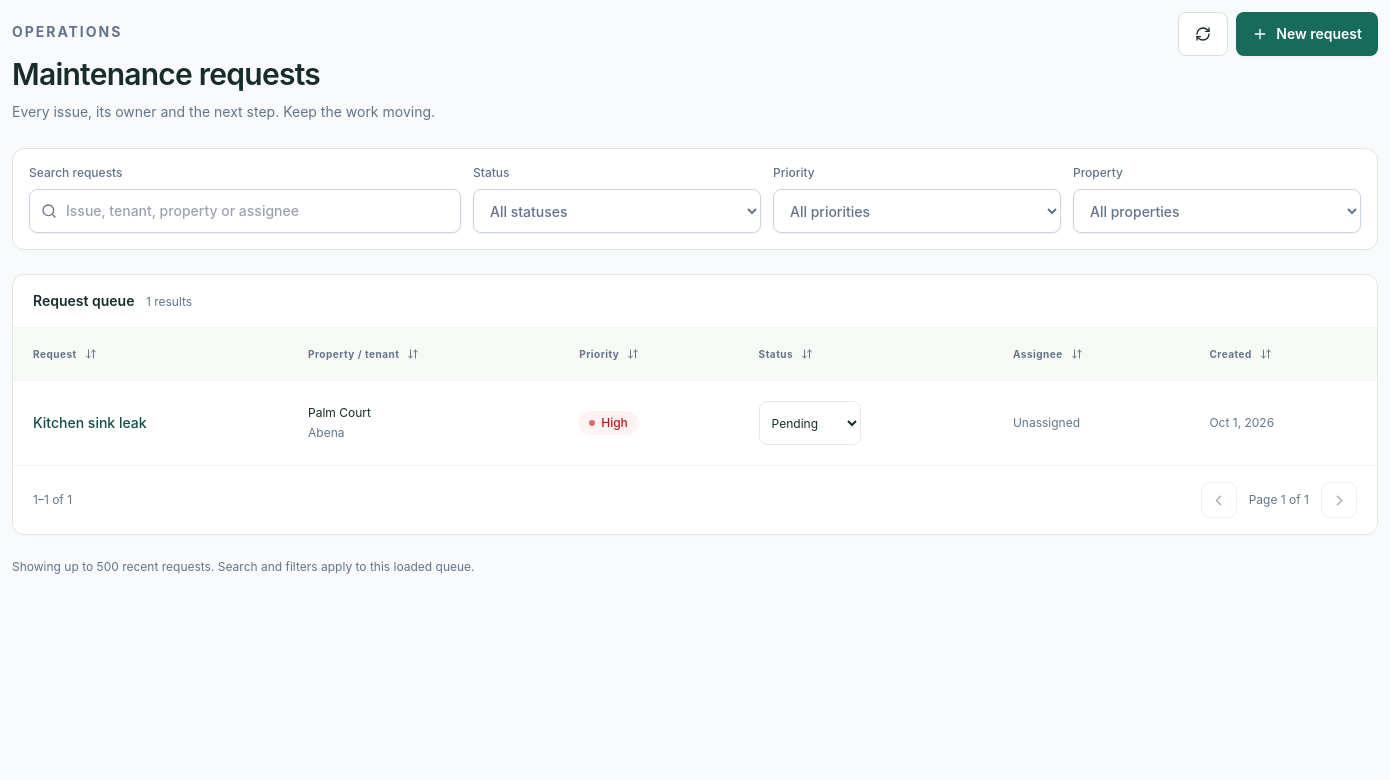
status changes send only editable fields and remain visible after saving
Select "In progress" in the dropdown named "Status for Kitchen sink leak" at coordinates (810, 423), box [759,401,861,445]
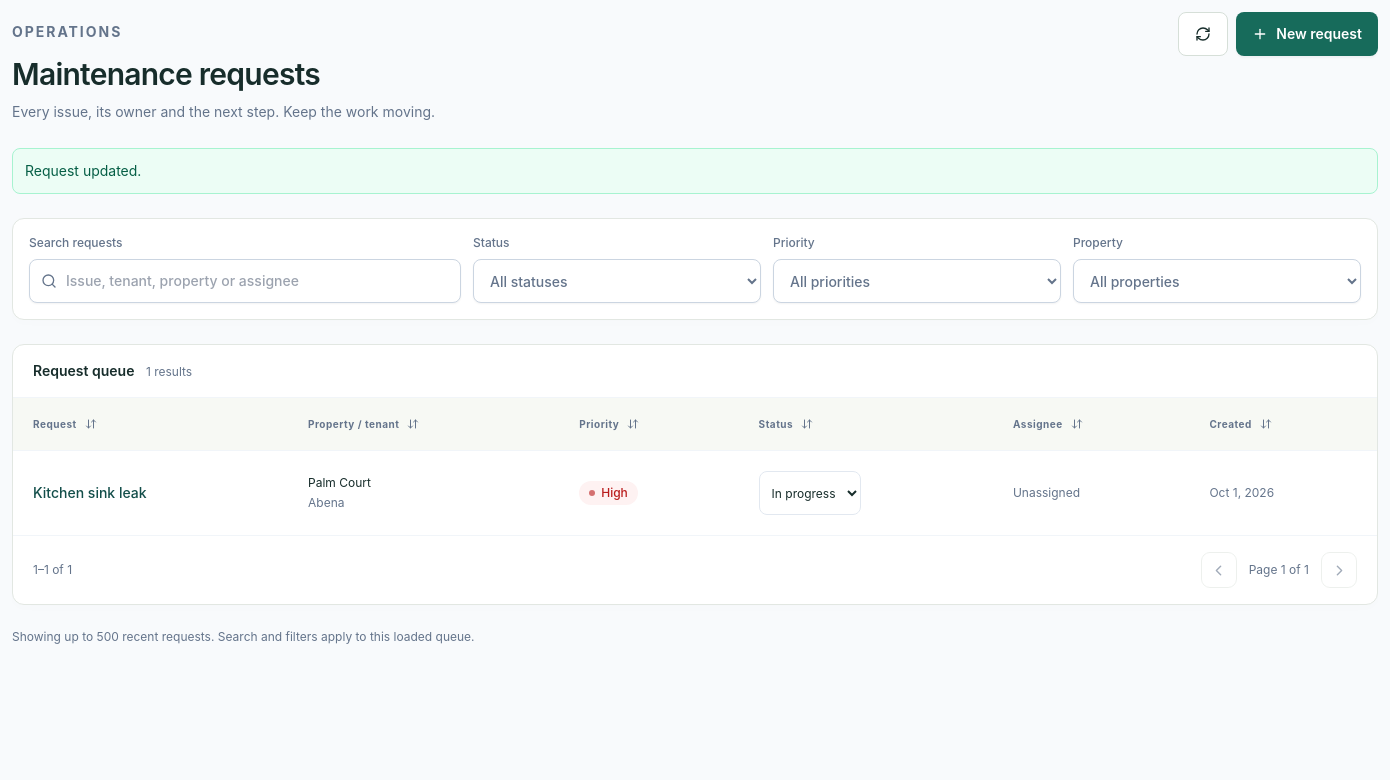
Now the message reads "Request updated.", box [25,162,141,179]
